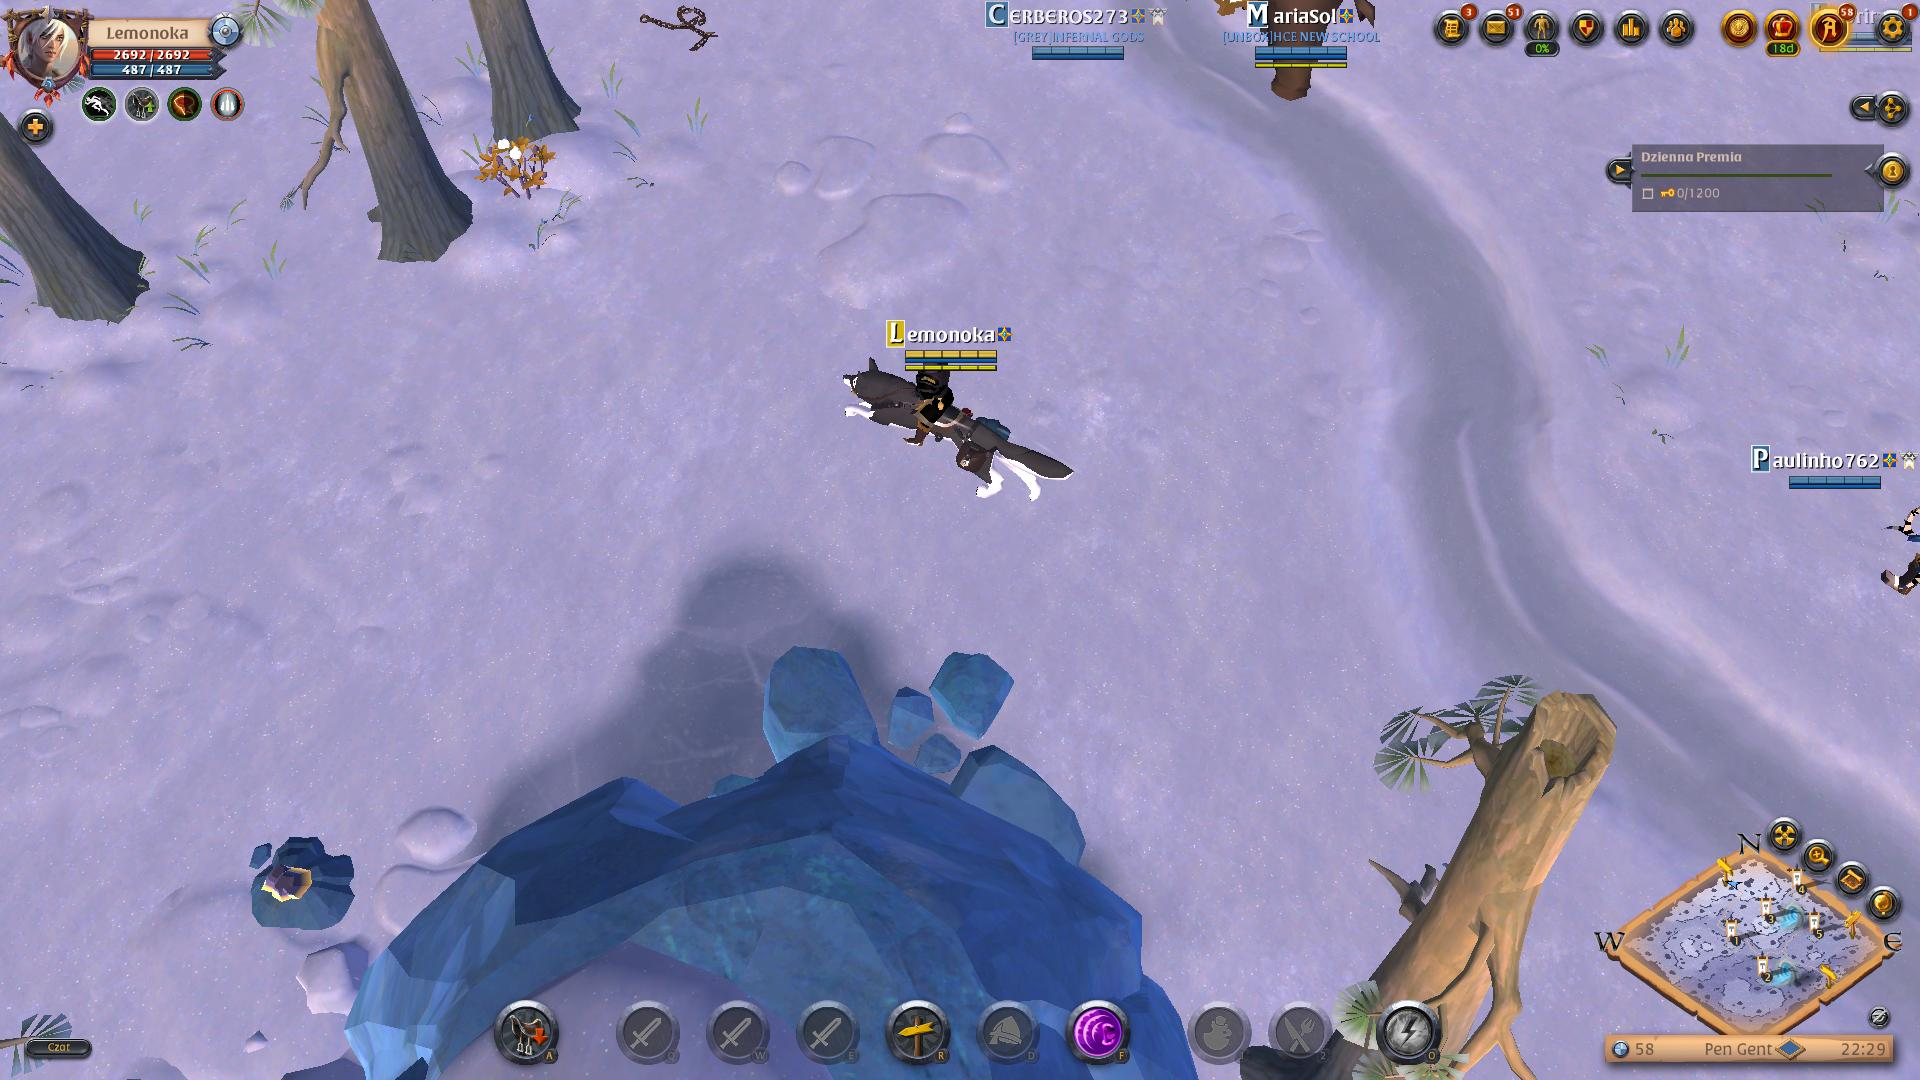fiber tier 2: (476, 125, 556, 202)
ore tier 2: (244, 833, 361, 936)
